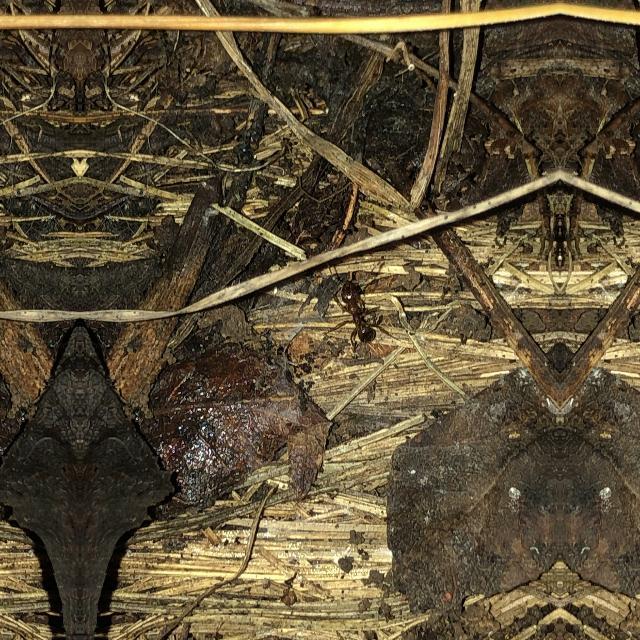Apheanogaster: (332, 273, 383, 353)
